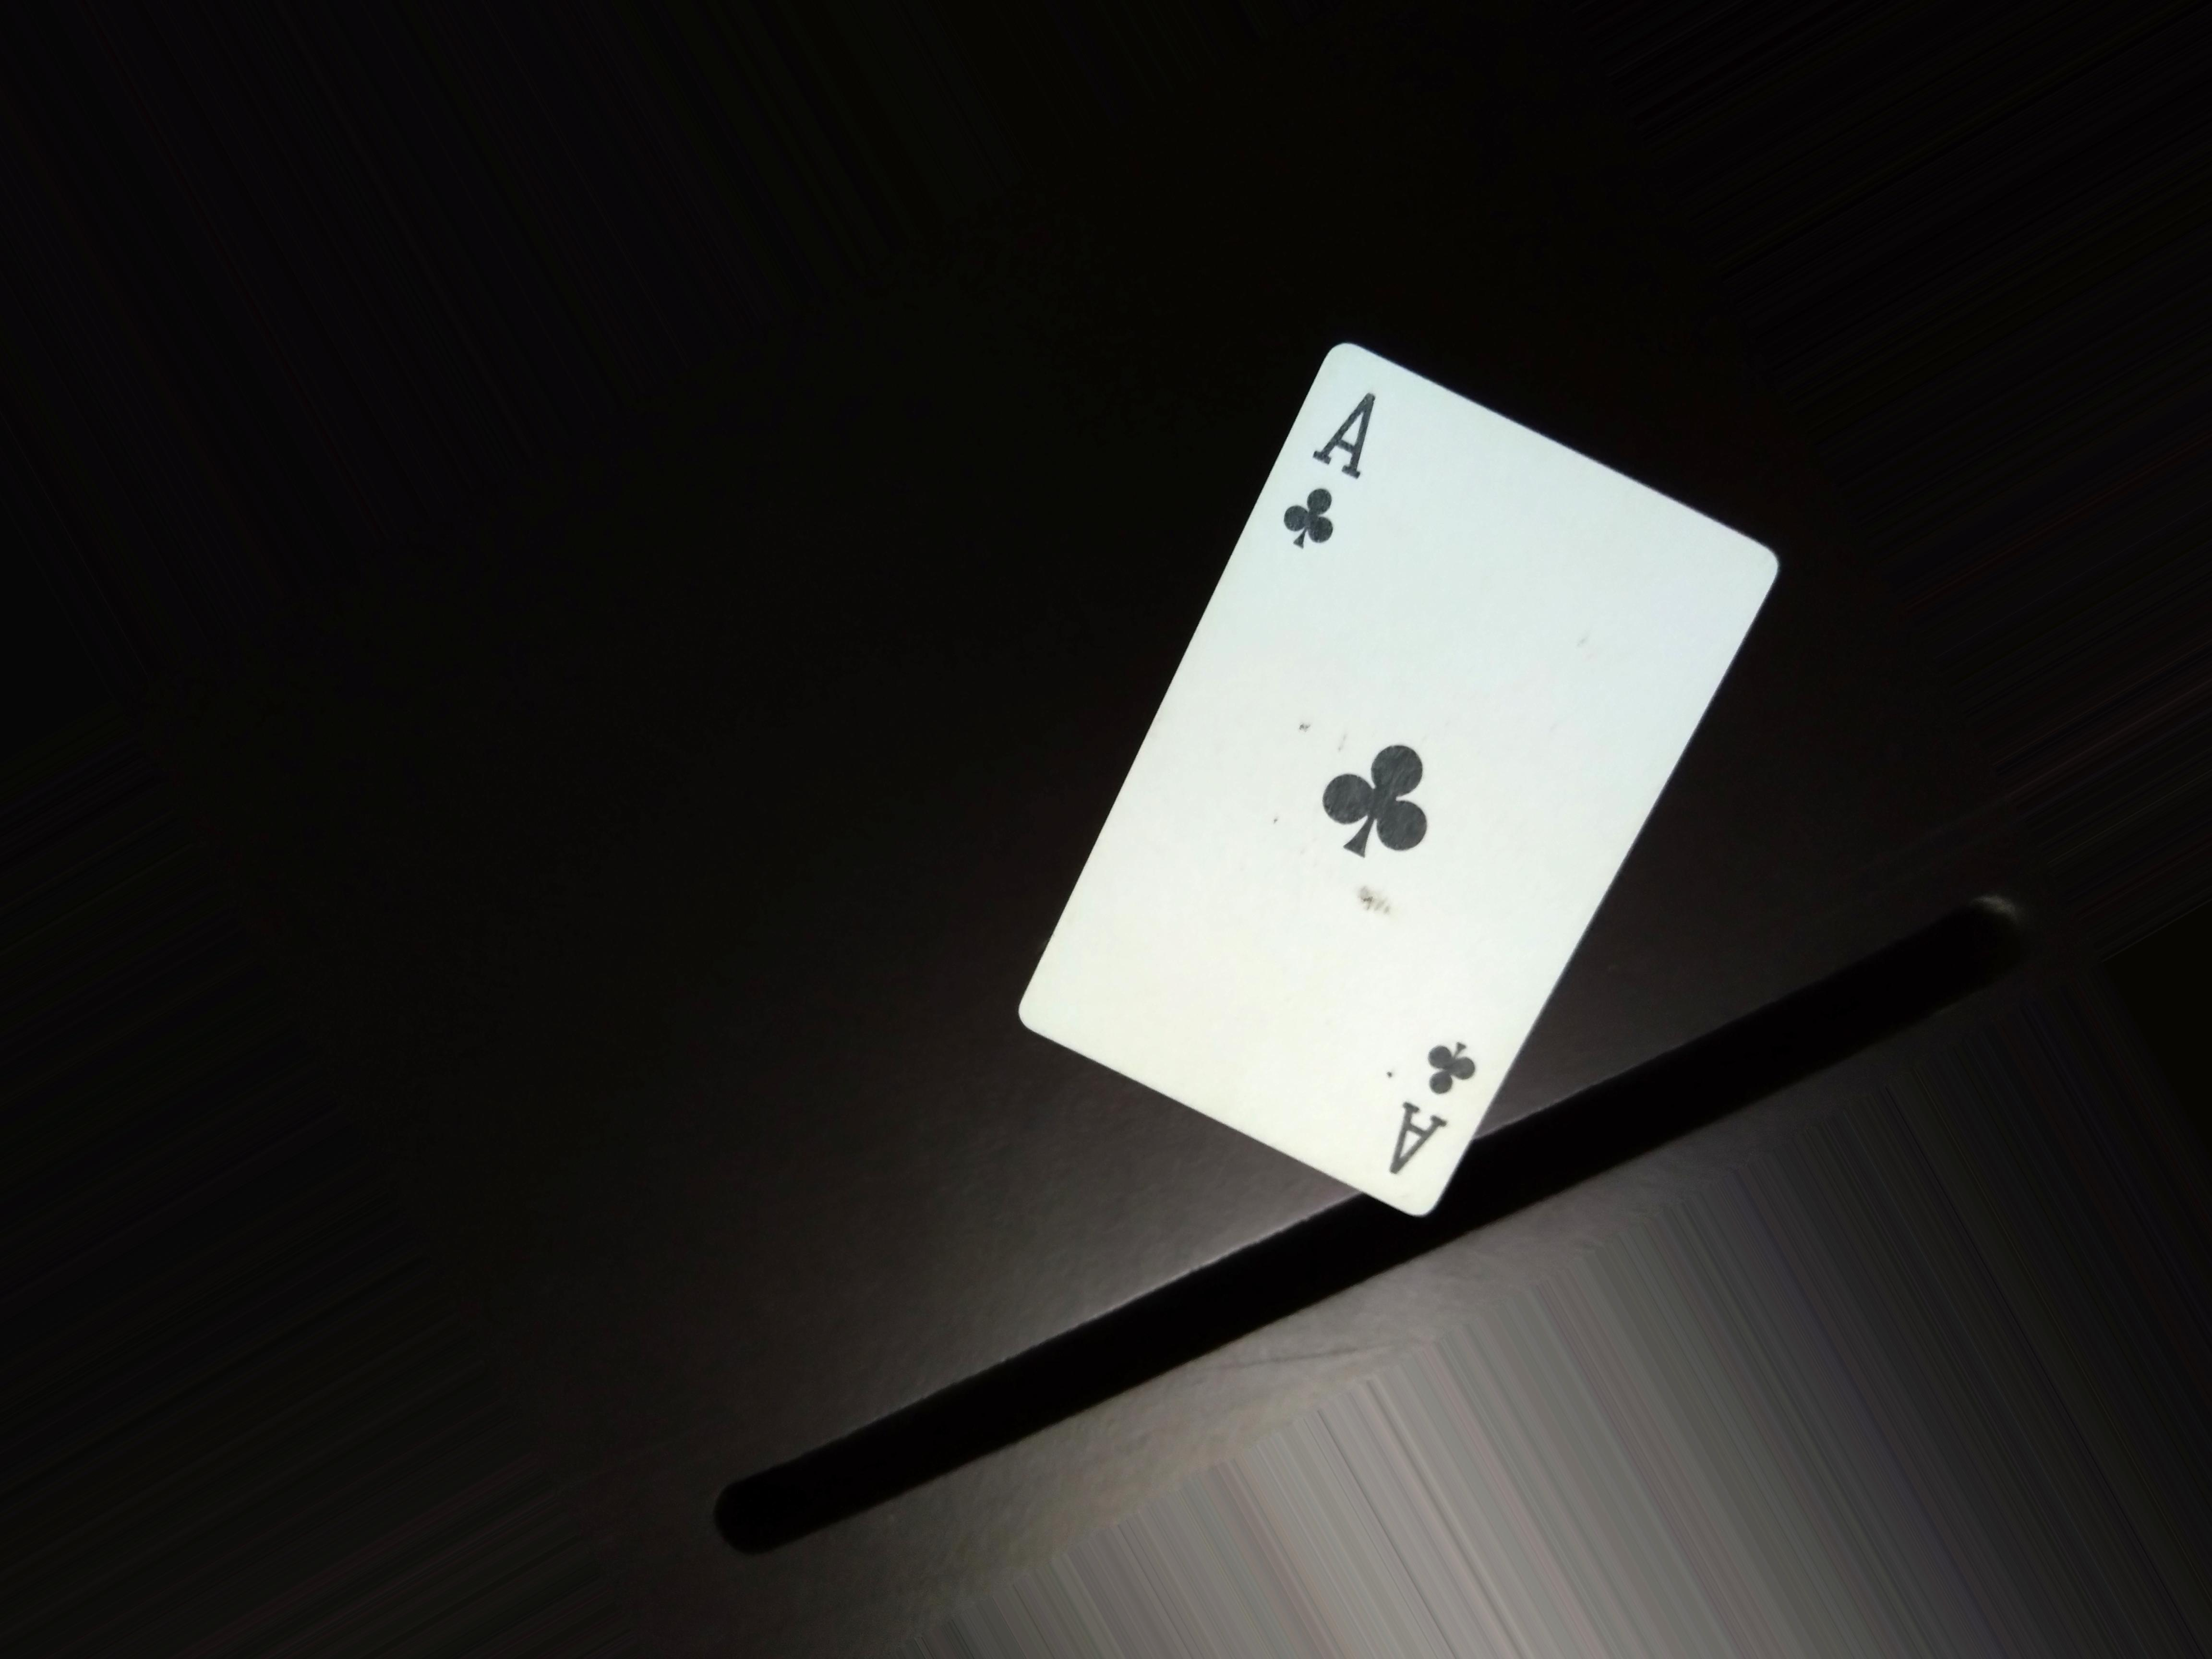AC: (1287, 368, 1383, 566)
